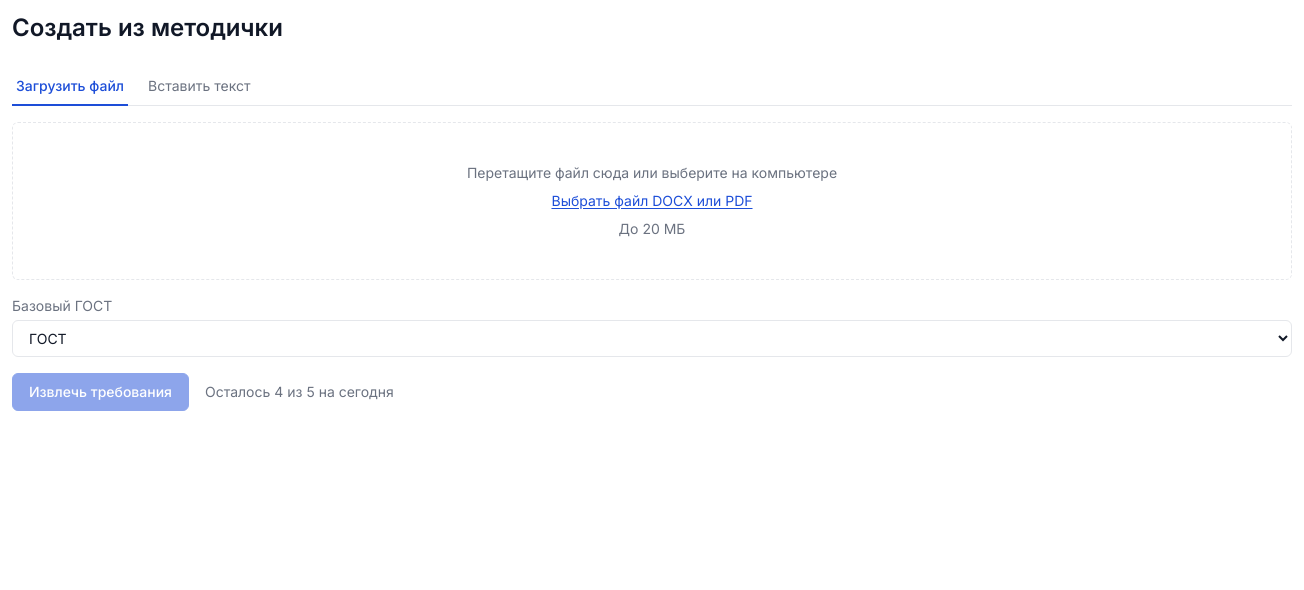
Test: FromGuideline › после 5 сетевых сбоев подряд опрос прекращается с ошибкой
Click the tab "Вставить текст" at coordinates (199, 87), box [144,68,255,106]
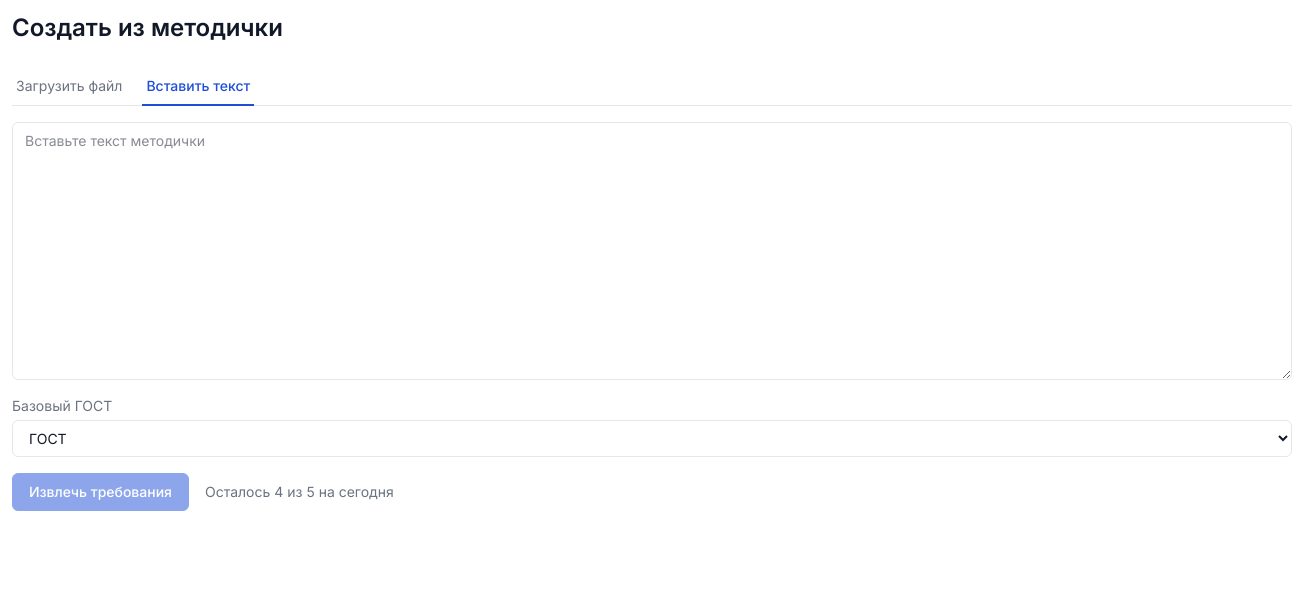
Type "Поля 25 мм" into the text box labelled "текст методички" at coordinates (652, 251), box [12,122,1292,380]
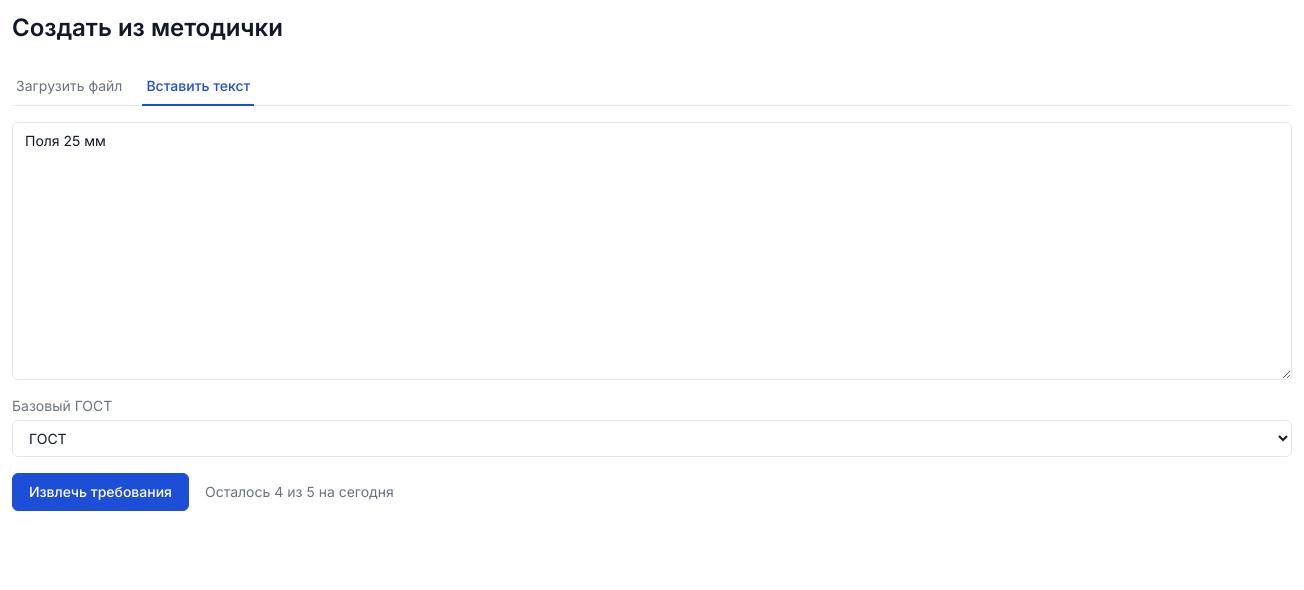
Click the button "Извлечь требования" at coordinates (100, 492), box [12,473,189,511]
Wait 20000 ms
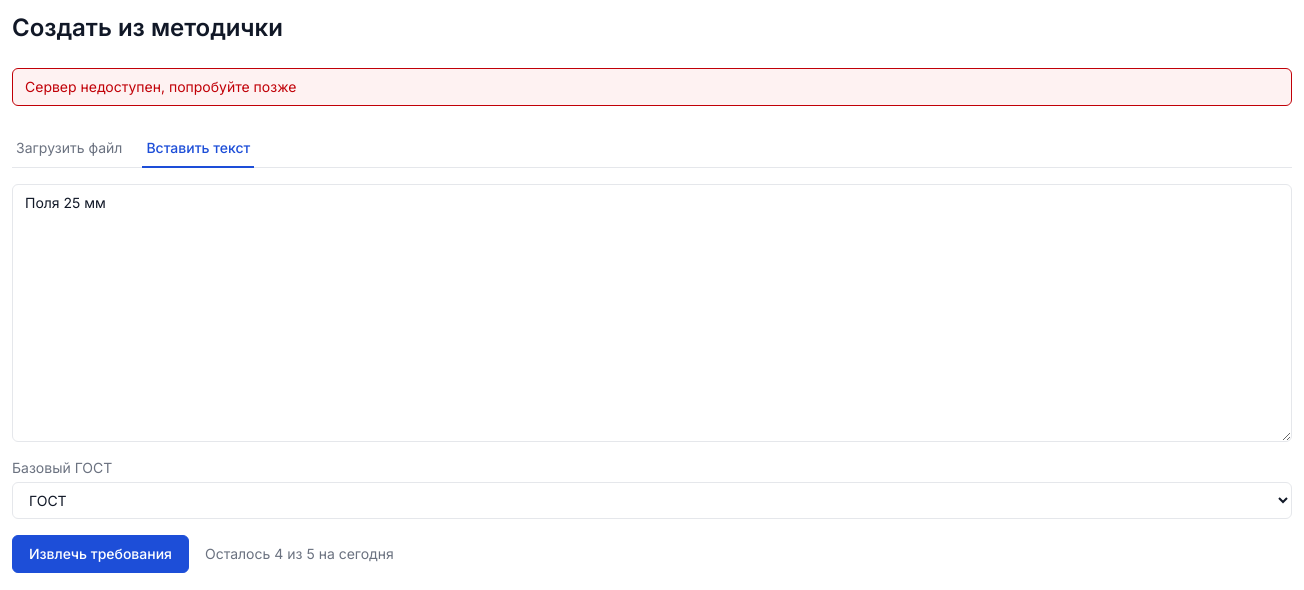
Expected: the text "Сервер недоступен, попробуйте позже" is shown, [12,68,1292,106]
